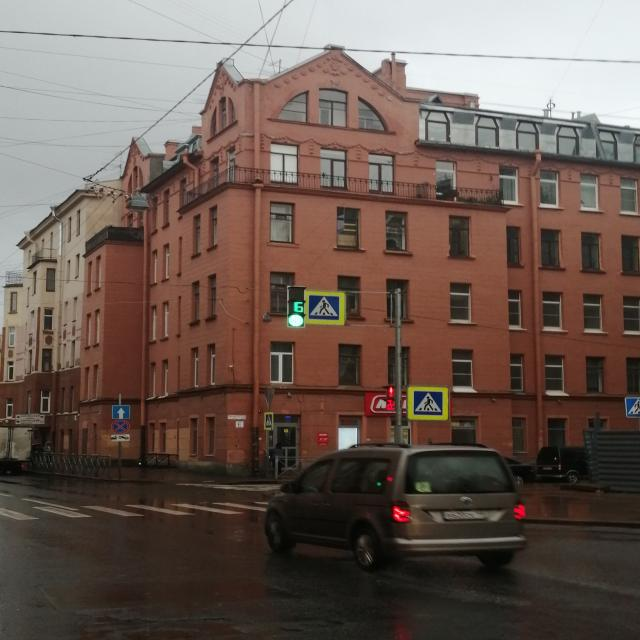road sign: (393, 288, 403, 443), (305, 291, 347, 326), (406, 386, 447, 421), (113, 404, 131, 420), (626, 398, 639, 417), (110, 432, 130, 442), (262, 413, 273, 431), (117, 444, 122, 478)
